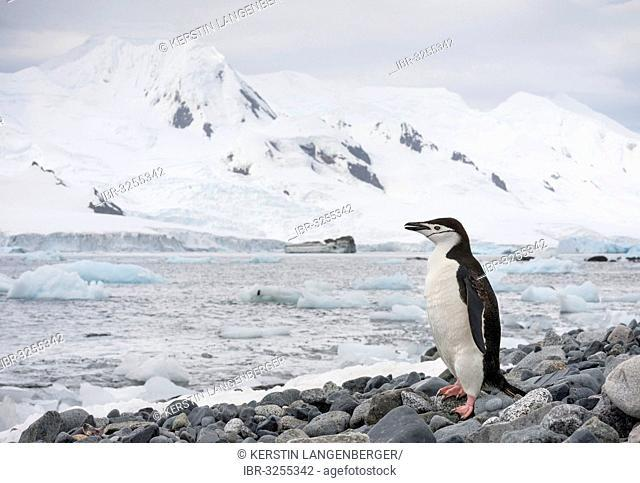chinstrap: (373, 205, 541, 411)
